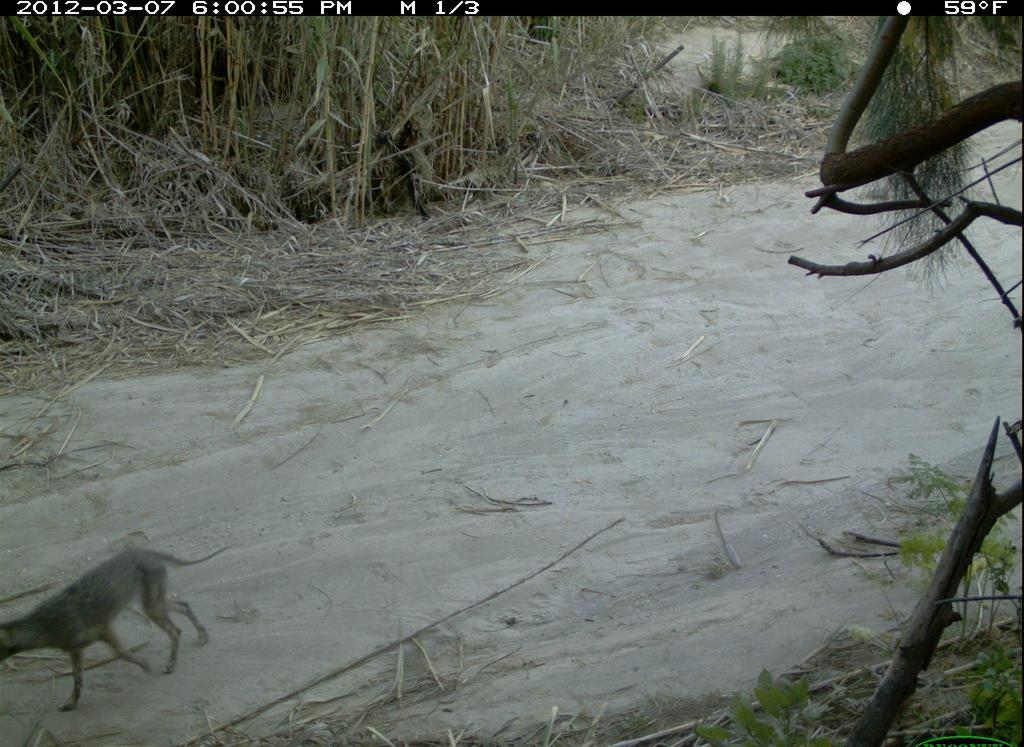coyote: (2, 534, 237, 721)
